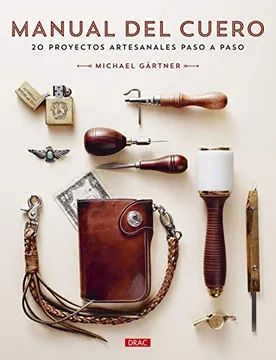cuero: (77, 197, 153, 304)
